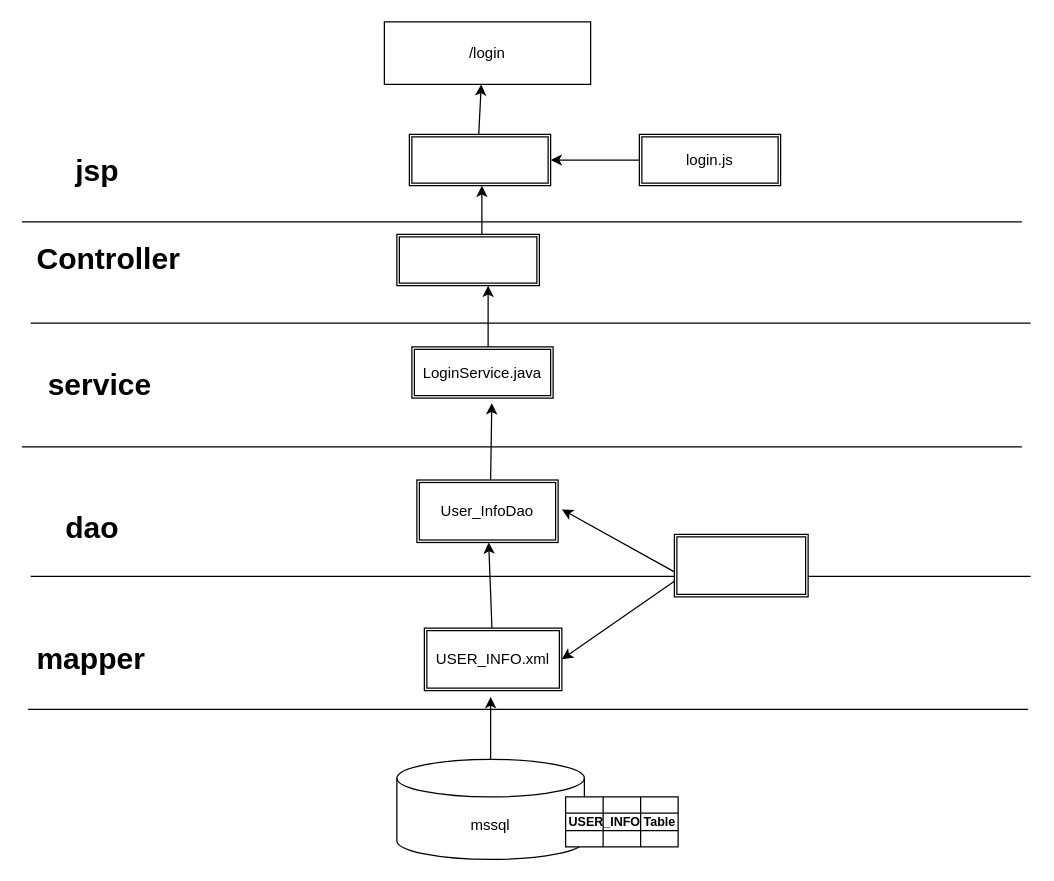
The diagram is 1054 pixels wide and 881 high, and some of its shapes have lost their labels. The centre of each missing label's shape, as x and y in pixels:
login.jsp: pixel 479 159
LoginController.java: pixel 467 259
User_InfoDto: pixel 740 565
